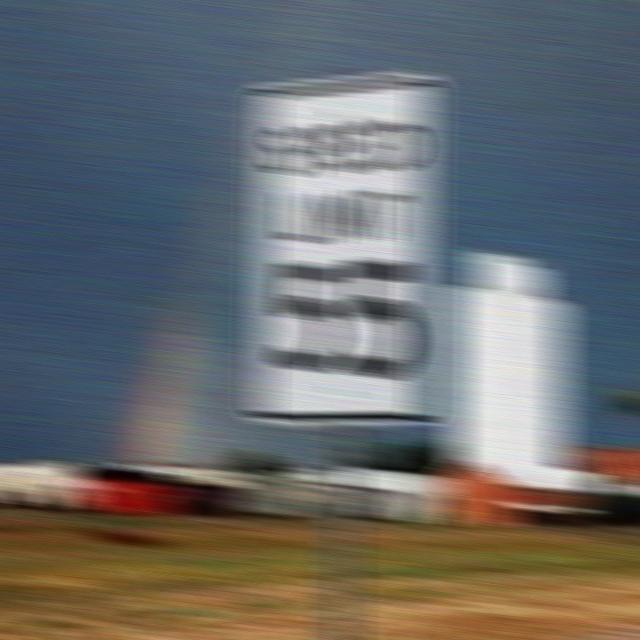speedLimit55: (252, 71, 437, 429)
